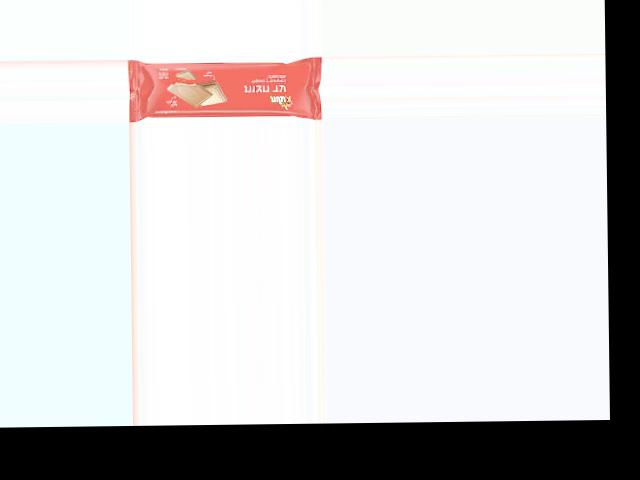chocolate: (130, 55, 317, 122)
